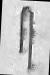S29: (3, 0, 48, 74)
